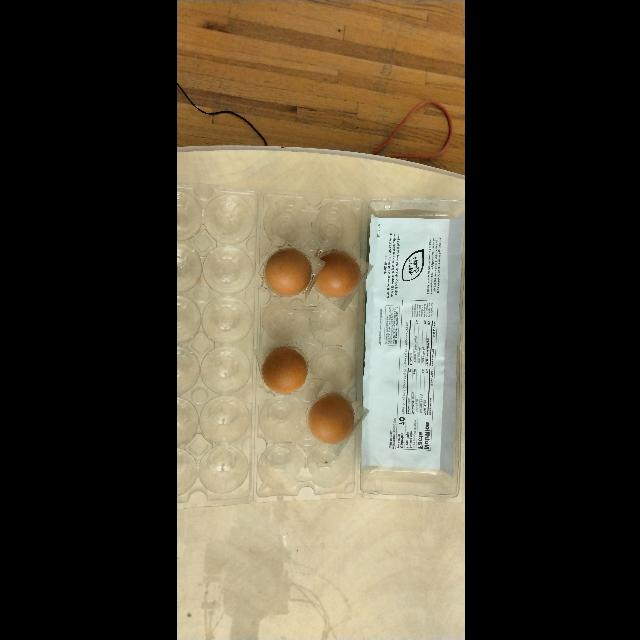Egg: (252, 240, 320, 306), (302, 241, 368, 305), (300, 386, 364, 450), (253, 339, 311, 397)
